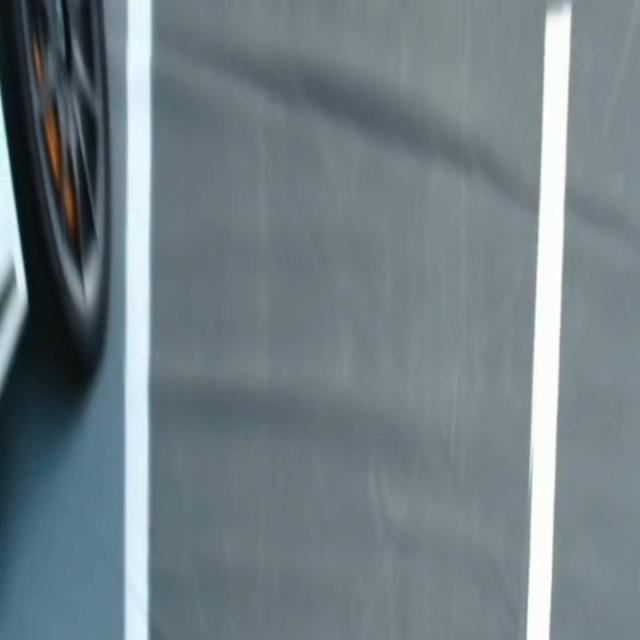center: (526, 3, 571, 639)
left: (124, 0, 151, 639)
